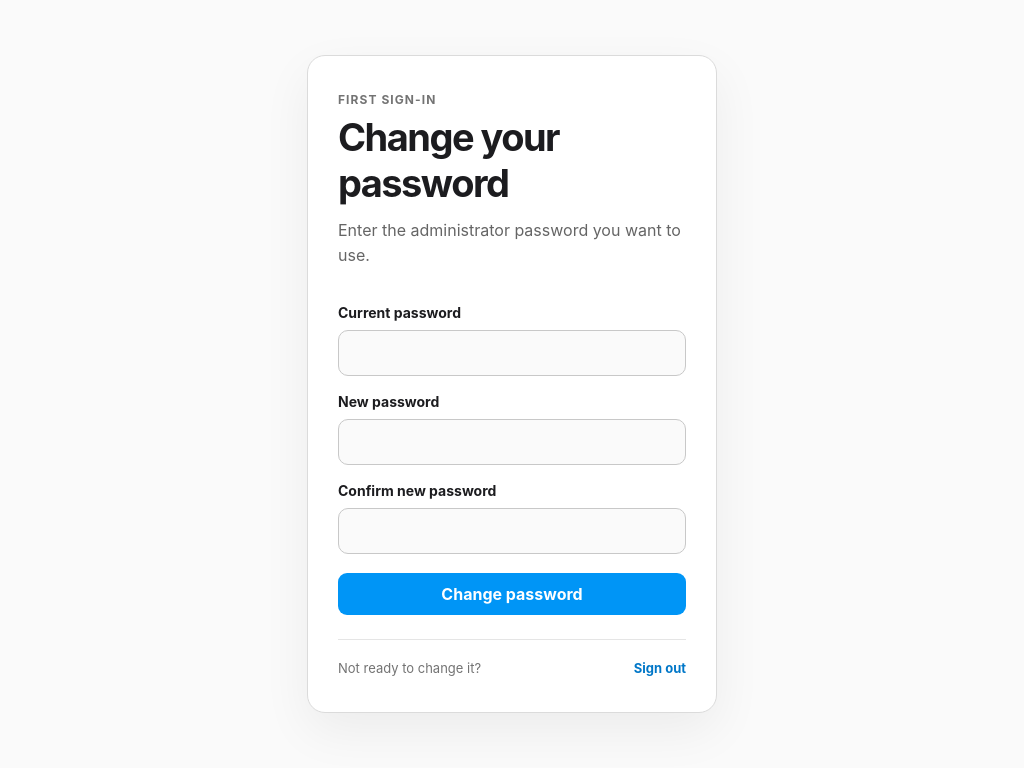
ChangePasswordPage › sends the csrf token and enters the authenticated shell
Click the button "Change password": (512, 594) [338,573,686,615]
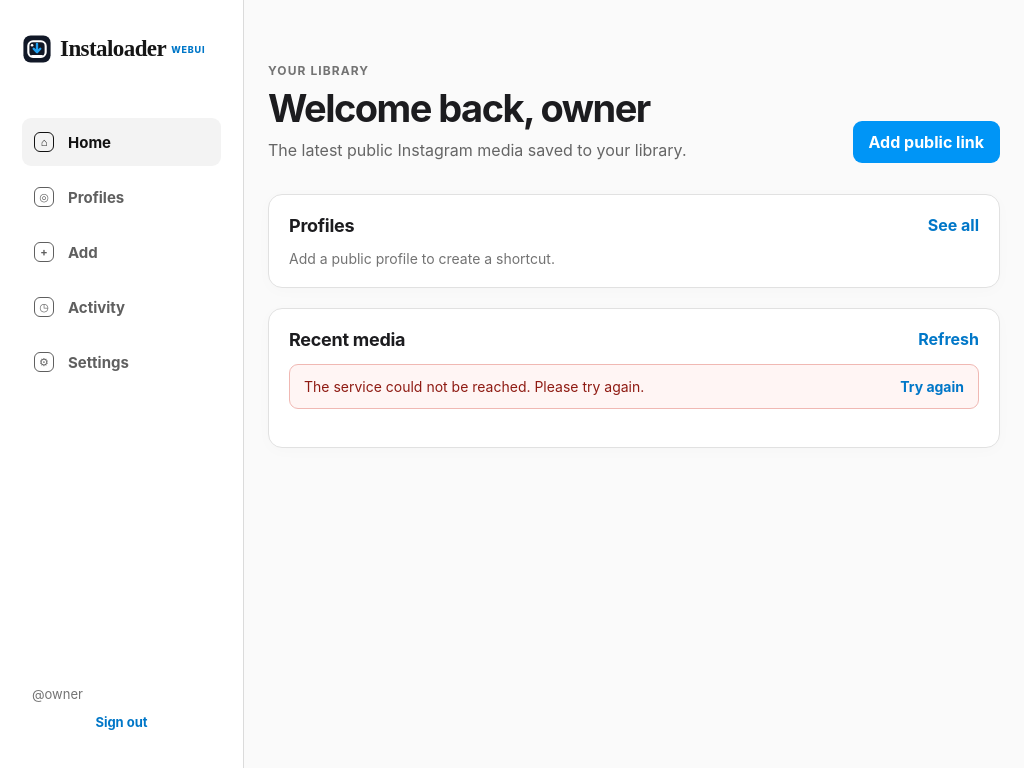
Expected: the navigation bar named "Desktop" is shown, [22,118,221,386]
Expected: the text "Profiles" is shown, [68,188,124,206]
